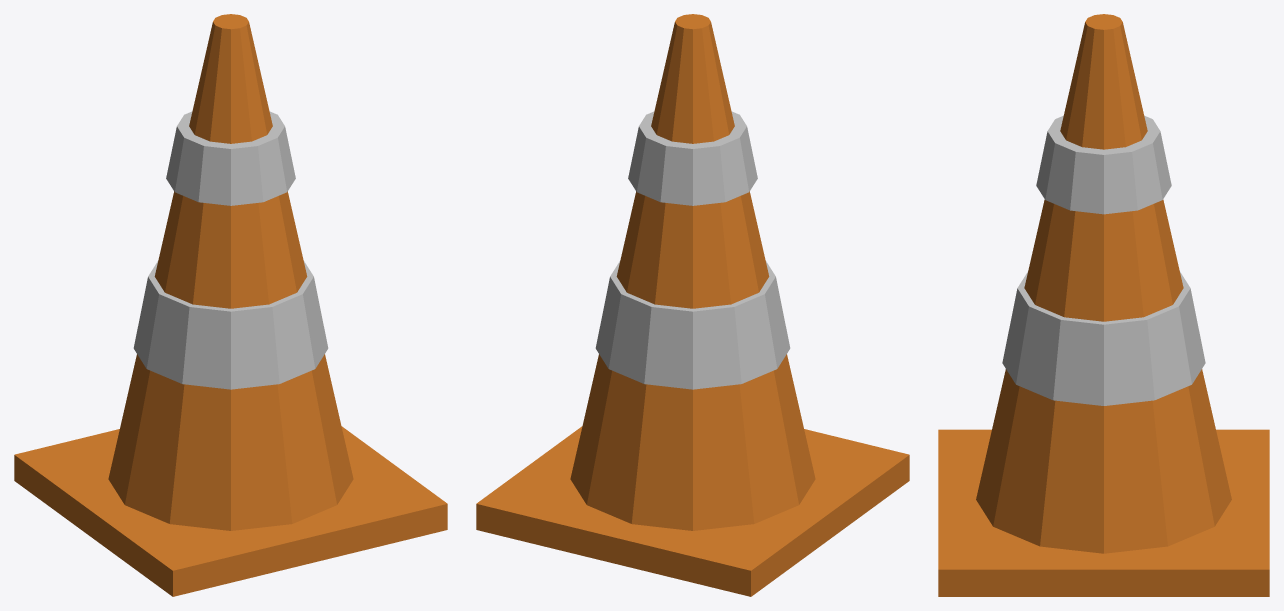
The model's file is objet_plot.glb.
3 renders of one model, left to right at view 1: azimuth 30°, elevation 25°; view 2: azimuth 150°, elevation 25°; view 3: azimuth 270°, elevation 25°, orthographic. The views are drawn at different scales.
Visible parts, largest first — view 1: objet_plot; view 2: objet_plot; view 3: objet_plot.
Boxes of the visible parts, box(x1,y1,x2,y2) form: objet_plot: box(14, 14, 447, 596); objet_plot: box(476, 14, 909, 596); objet_plot: box(938, 14, 1269, 596).
Size of the model in its own units: 0.44 by 0.74 by 0.44.
